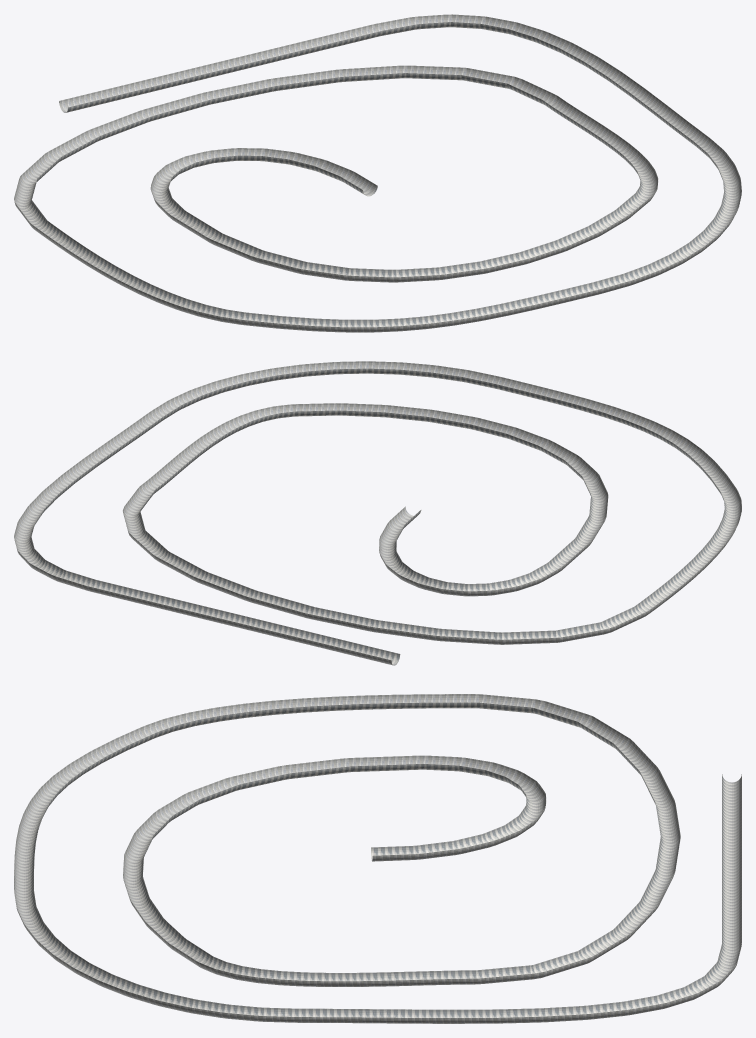
File: track3.obj
3 renders of one model, top to bottom at view 1: azimuth 30°, elevation 25°; view 2: azimuth 150°, elevation 25°; view 3: azimuth 270°, elevation 25°, orthographic. The views are drawn at different scales.
Parts seen in each view (by area): view 1: Cylinder.014; view 2: Cylinder.014; view 3: Cylinder.014.
Boxes of the visible parts, box(x1,y1,x2,y2) form: Cylinder.014: box(14, 14, 741, 332); Cylinder.014: box(14, 361, 741, 665); Cylinder.014: box(14, 694, 741, 1023).
Bounding box in the file's own units: 42.24 × 0.5501 × 40.1.
Materials: 1 (1 with a texture image).
